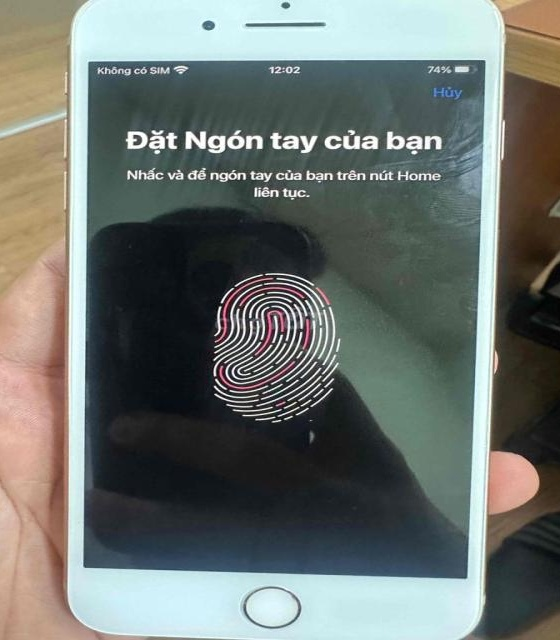scratch: (301, 420, 317, 447)
